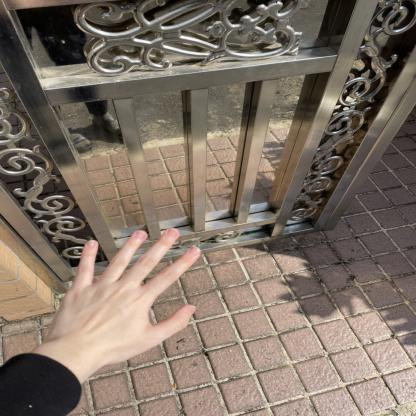bare_hand: (44, 221, 207, 370)
